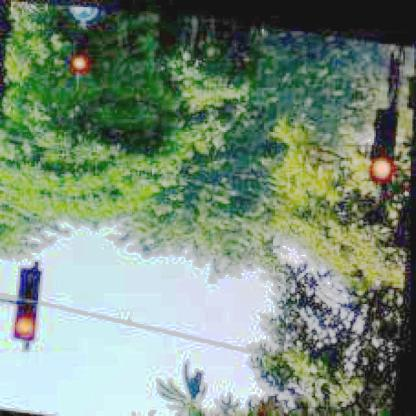Traffic Light -Red-: (370, 100, 401, 175), (14, 264, 44, 340)
